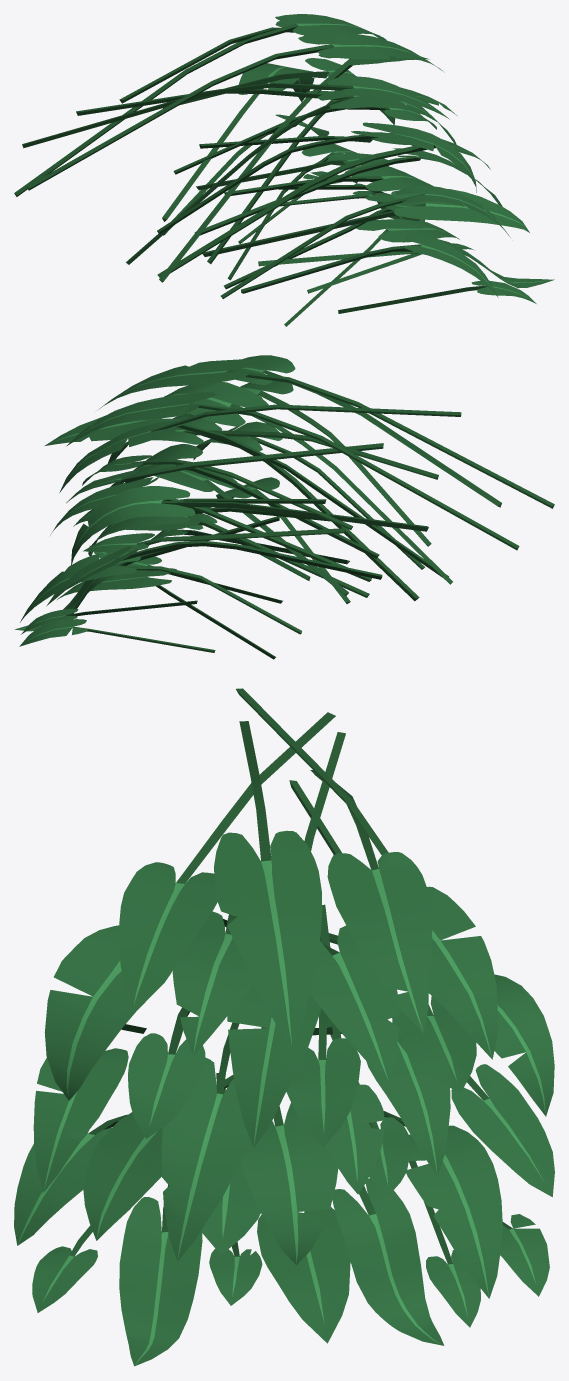
The model's file is plant_monstera_D_wall.fbx.
3 views of the same model, one above another, from view 1: azimuth 30°, elevation 25°; view 2: azimuth 150°, elevation 25°; view 3: azimuth 270°, elevation 25° (orthographic). The views are drawn at different scales.
Visible parts, largest first — view 1: plant_monstera_D_leaf_01, plant_monstera_D_leaf_16, plant_monstera_D_leaf_04, plant_monstera_D_leaf_05, plant_monstera_D_leaf_07, plant_monstera_D_leaf_19, plant_monstera_D_leaf_10, plant_monstera_D_leaf_06, plant_monstera_D_leaf_11, plant_monstera_D_leaf_12, plant_monstera_D_leaf_26, plant_monstera_D_leaf_02 (+17 smaller); view 2: plant_monstera_D_leaf_12, plant_monstera_D_leaf_01, plant_monstera_D_leaf_05, plant_monstera_D_leaf_03, plant_monstera_D_leaf_06, plant_monstera_D_leaf_02, plant_monstera_D_leaf_20, plant_monstera_D_leaf_21, plant_monstera_D_leaf_04, plant_monstera_D_leaf_08, plant_monstera_D_leaf_14, plant_monstera_D_leaf_23 (+18 smaller); view 3: plant_monstera_D_leaf_01, plant_monstera_D_leaf_05, plant_monstera_D_leaf_04, plant_monstera_D_leaf_15, plant_monstera_D_leaf_07, plant_monstera_D_leaf_24, plant_monstera_D_leaf_25, plant_monstera_D_leaf_17, plant_monstera_D_leaf_21, plant_monstera_D_leaf_03, plant_monstera_D_leaf_08, plant_monstera_D_leaf_02 (+18 smaller).
Boxes of the visible parts, box(x1,y1,x2,y2) form: plant_monstera_D_leaf_01: box(26, 33, 444, 190); plant_monstera_D_leaf_16: box(202, 188, 529, 256); plant_monstera_D_leaf_04: box(22, 76, 448, 148); plant_monstera_D_leaf_05: box(14, 14, 386, 196); plant_monstera_D_leaf_07: box(157, 122, 476, 234); plant_monstera_D_leaf_19: box(241, 235, 498, 297); plant_monstera_D_leaf_10: box(220, 185, 510, 298); plant_monstera_D_leaf_06: box(126, 87, 456, 264); plant_monstera_D_leaf_11: box(157, 139, 490, 277); plant_monstera_D_leaf_12: box(162, 63, 314, 221); plant_monstera_D_leaf_26: box(284, 219, 459, 326); plant_monstera_D_leaf_02: box(159, 54, 429, 282); plant_monstera_D_leaf_12: box(71, 486, 428, 565); plant_monstera_D_leaf_01: box(98, 359, 554, 508); plant_monstera_D_leaf_05: box(66, 392, 519, 550); plant_monstera_D_leaf_03: box(59, 404, 461, 492); plant_monstera_D_leaf_06: box(164, 382, 452, 584); plant_monstera_D_leaf_02: box(45, 403, 448, 577); plant_monstera_D_leaf_20: box(46, 540, 382, 606); plant_monstera_D_leaf_21: box(20, 552, 301, 634); plant_monstera_D_leaf_04: box(229, 355, 501, 507); plant_monstera_D_leaf_08: box(108, 417, 438, 479); plant_monstera_D_leaf_14: box(66, 443, 383, 503); plant_monstera_D_leaf_23: box(83, 528, 345, 551); plant_monstera_D_leaf_01: box(214, 721, 322, 1046); plant_monstera_D_leaf_05: box(310, 770, 432, 1033); plant_monstera_D_leaf_04: box(119, 712, 335, 1006); plant_monstera_D_leaf_15: box(161, 1022, 250, 1260); plant_monstera_D_leaf_07: box(44, 919, 227, 1100); plant_monstera_D_leaf_24: box(332, 1178, 444, 1345); plant_monstera_D_leaf_25: box(119, 1185, 202, 1366); plant_monstera_D_leaf_17: box(240, 1027, 338, 1265); plant_monstera_D_leaf_21: box(383, 1111, 502, 1298); plant_monstera_D_leaf_03: box(236, 688, 497, 1059); plant_monstera_D_leaf_08: box(227, 732, 345, 1147); plant_monstera_D_leaf_02: box(309, 925, 399, 1081).
Size of the model in its own units: 547 by 296 by 344.
